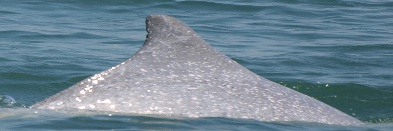fin: (16, 12, 369, 129)
